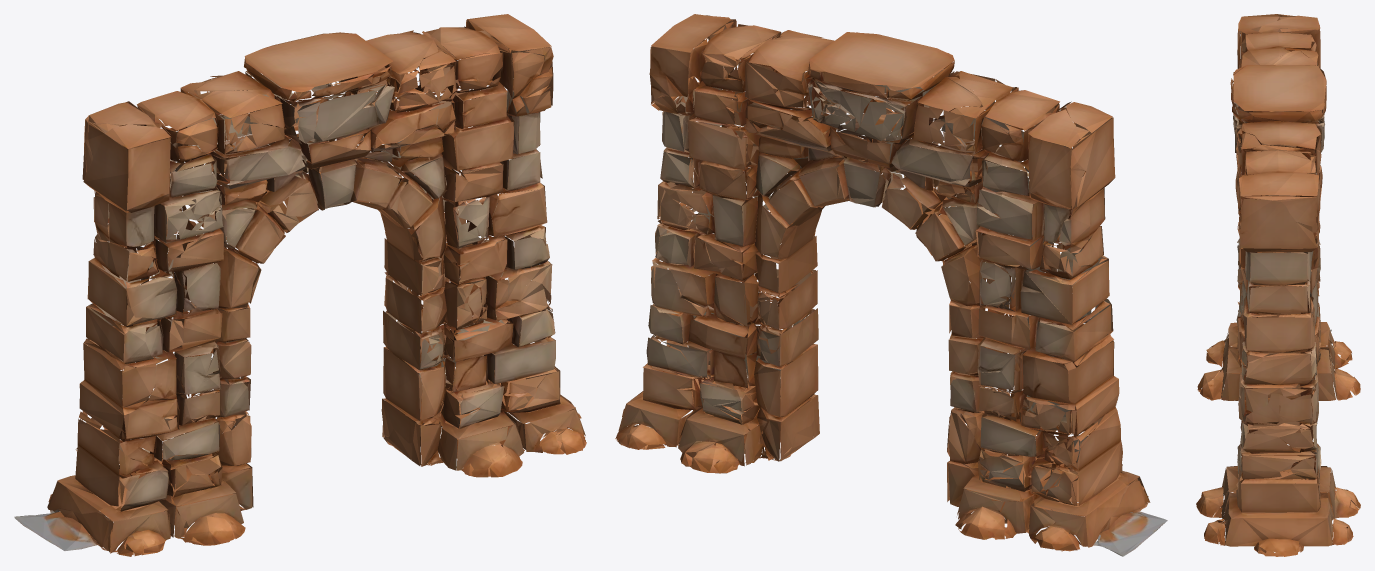
The model's file is gate-arch.glb.
3 views of the same model, side by side, from view 1: azimuth 30°, elevation 25°; view 2: azimuth 150°, elevation 25°; view 3: azimuth 270°, elevation 25° (orthographic). The views are drawn at different scales.
Visible parts, largest first — view 1: material; view 2: material; view 3: material.
Boxes of the visible parts, left/top/right/bottom form: material: left=14, top=14, right=586, bottom=556; material: left=615, top=14, right=1167, bottom=556; material: left=1196, top=14, right=1360, bottom=556.
Bounding box in the file's own units: 1.23 × 0.9189 × 0.3799.
Materials: 1 (1 with a texture image).
